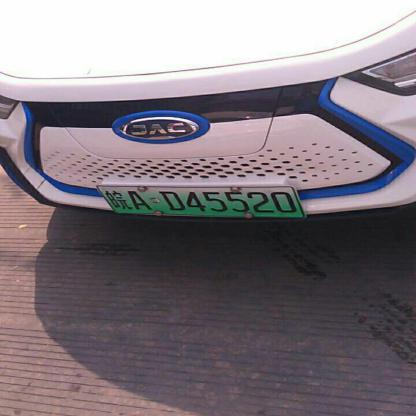lp: (96, 185, 304, 217)
